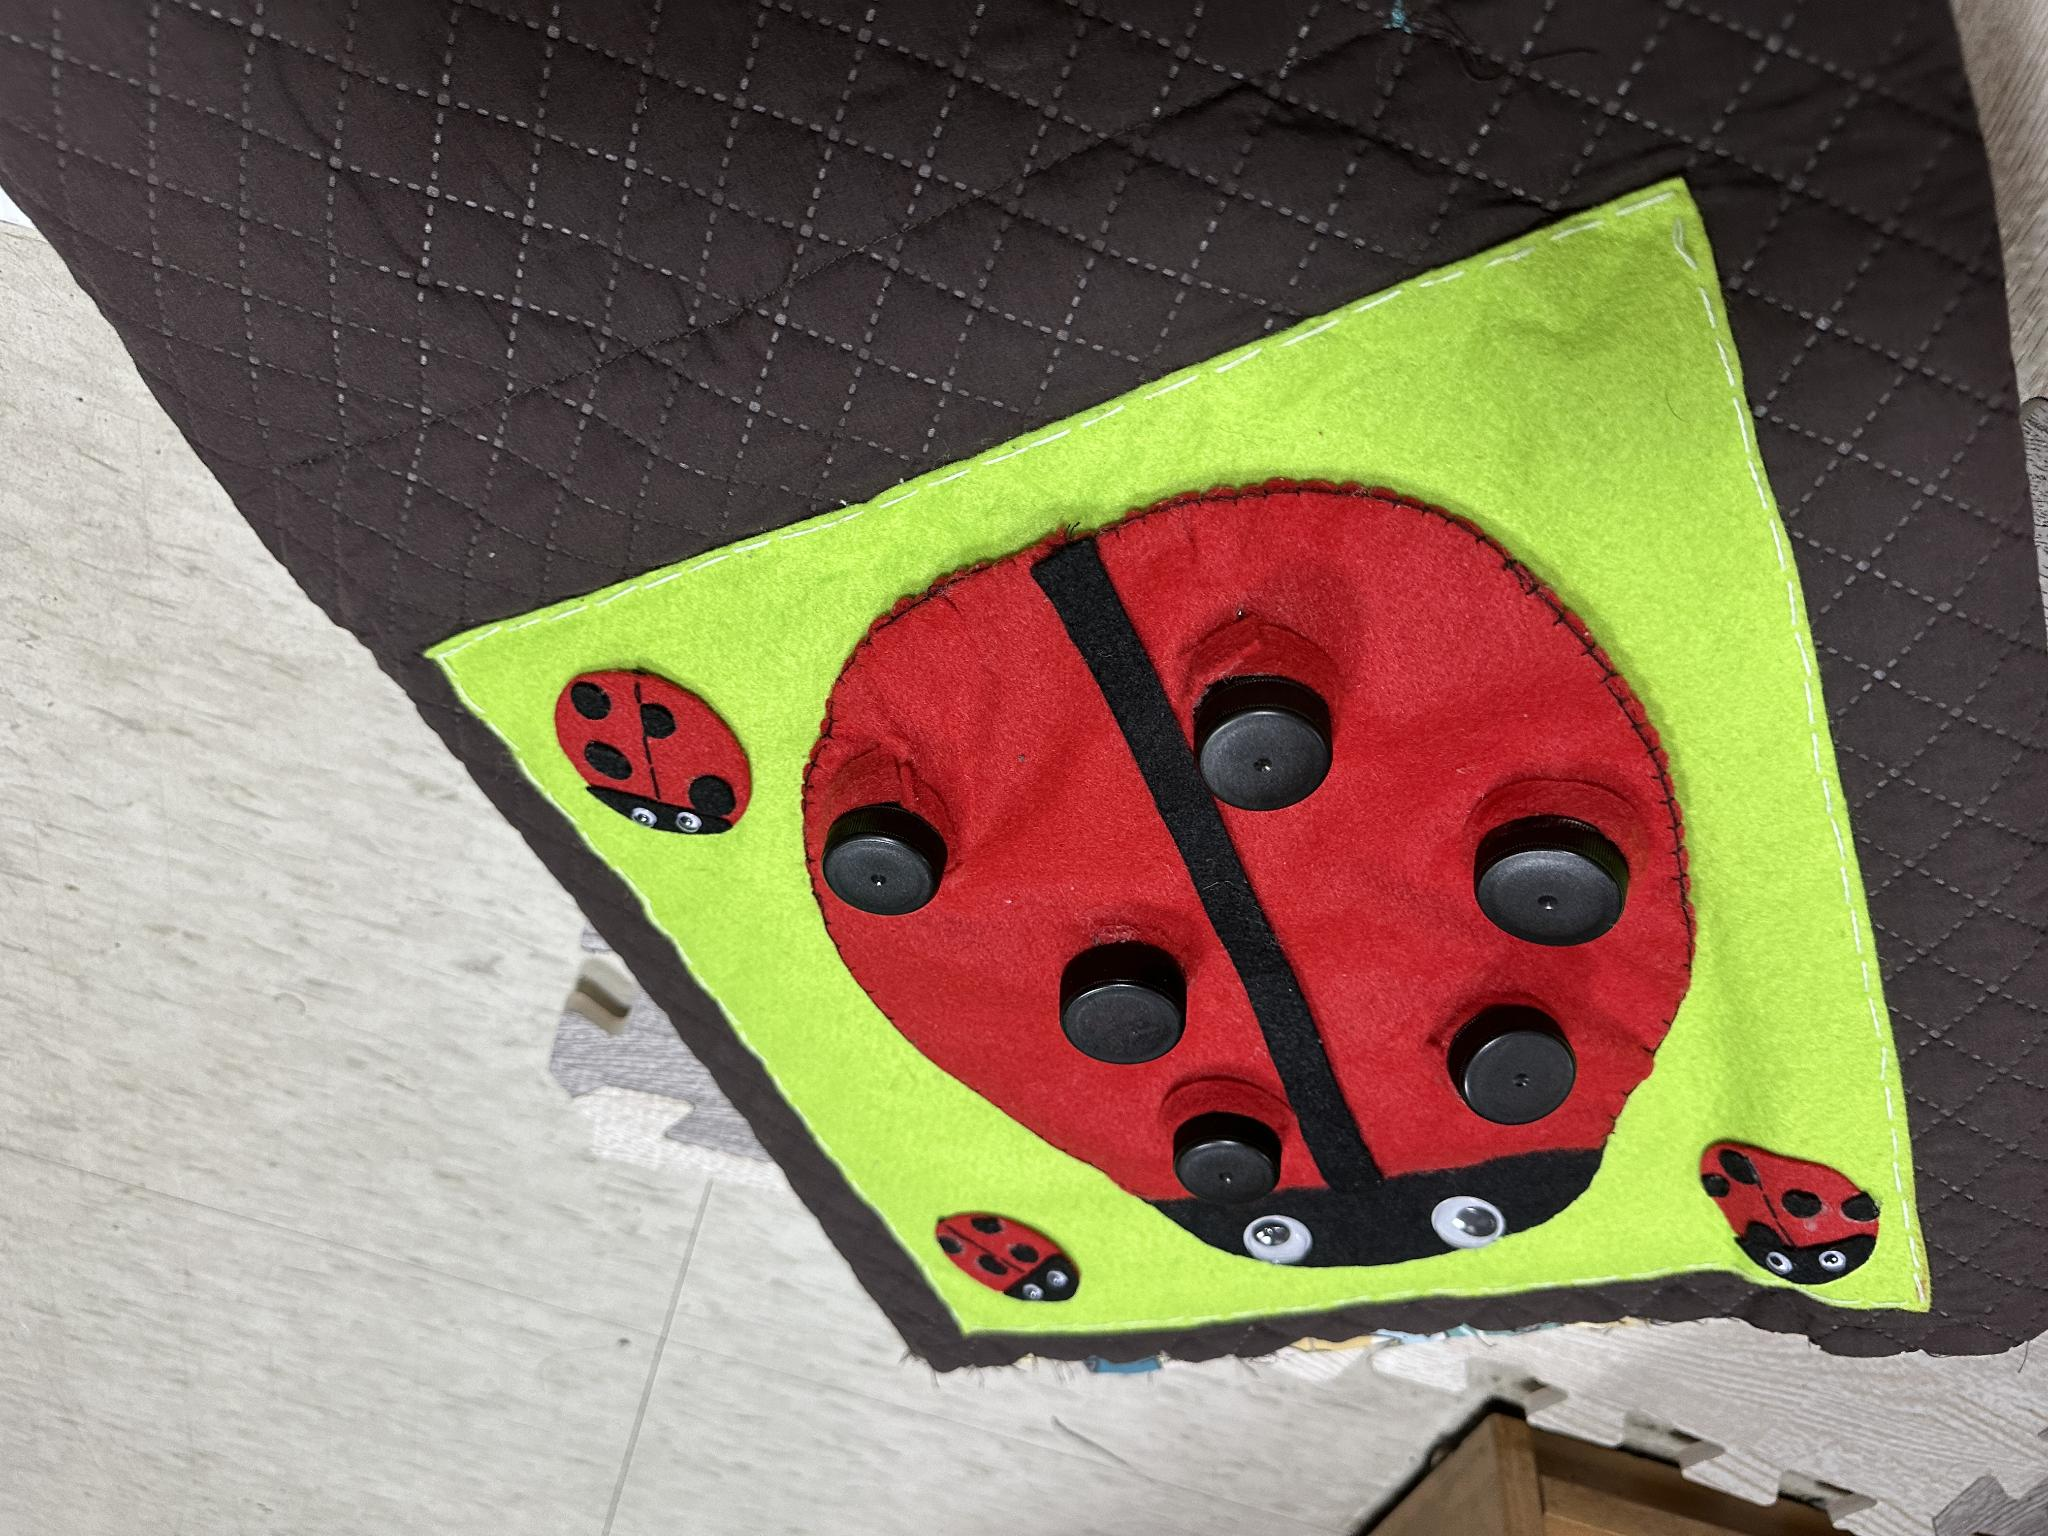cap_ok: (1168, 616, 1364, 828), (1459, 758, 1656, 955), (1032, 897, 1219, 1081), (800, 752, 977, 939), (1147, 1042, 1316, 1217), (1443, 970, 1587, 1173)
